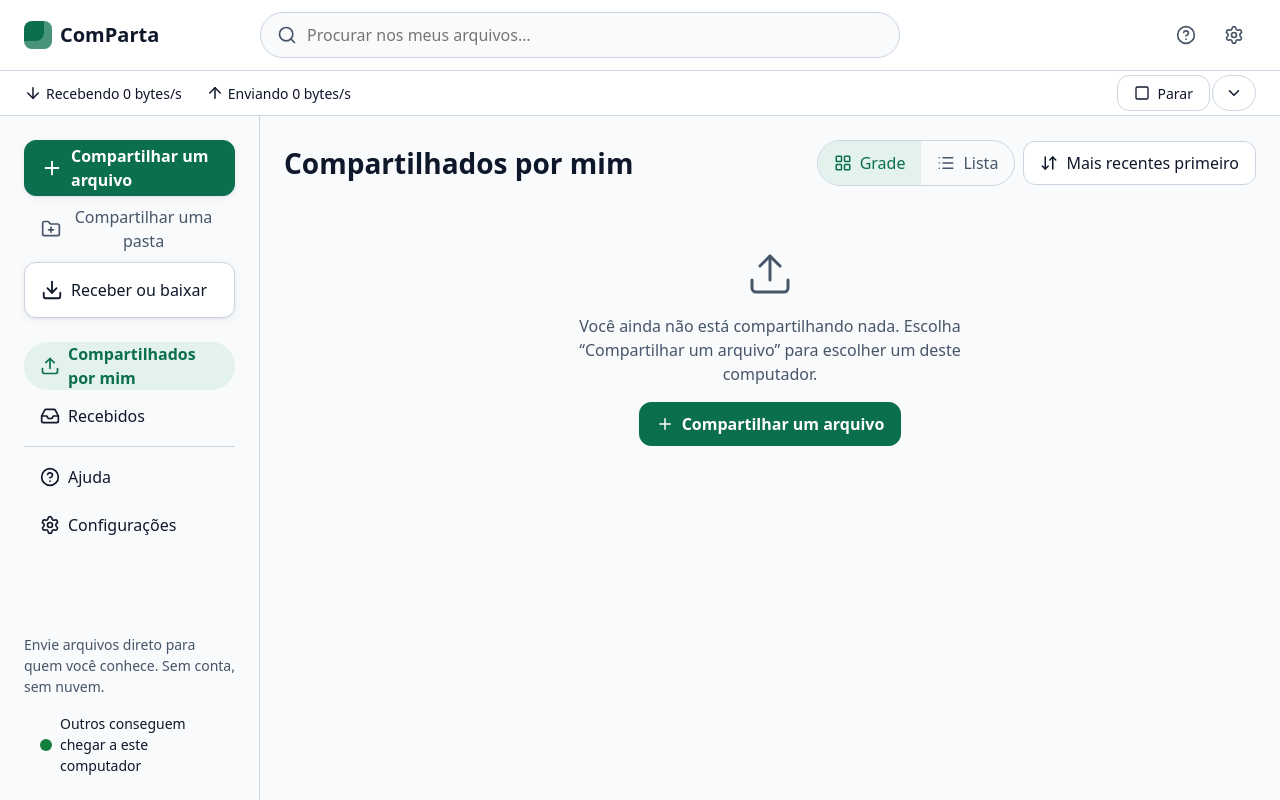
Test: sharing a folder or several files › says in Brazilian Portuguese that files added later are not included
The image size is (1280, 800).
Expected: the text "Você ainda não está compartilhando nada. Escolha “Compartilhar um arquivo” para escolher um deste computador." is shown, 579,315 -> 961,385
Click the button "Compartilhar uma pasta".
click(130, 229)  # box 24,204 -> 235,254
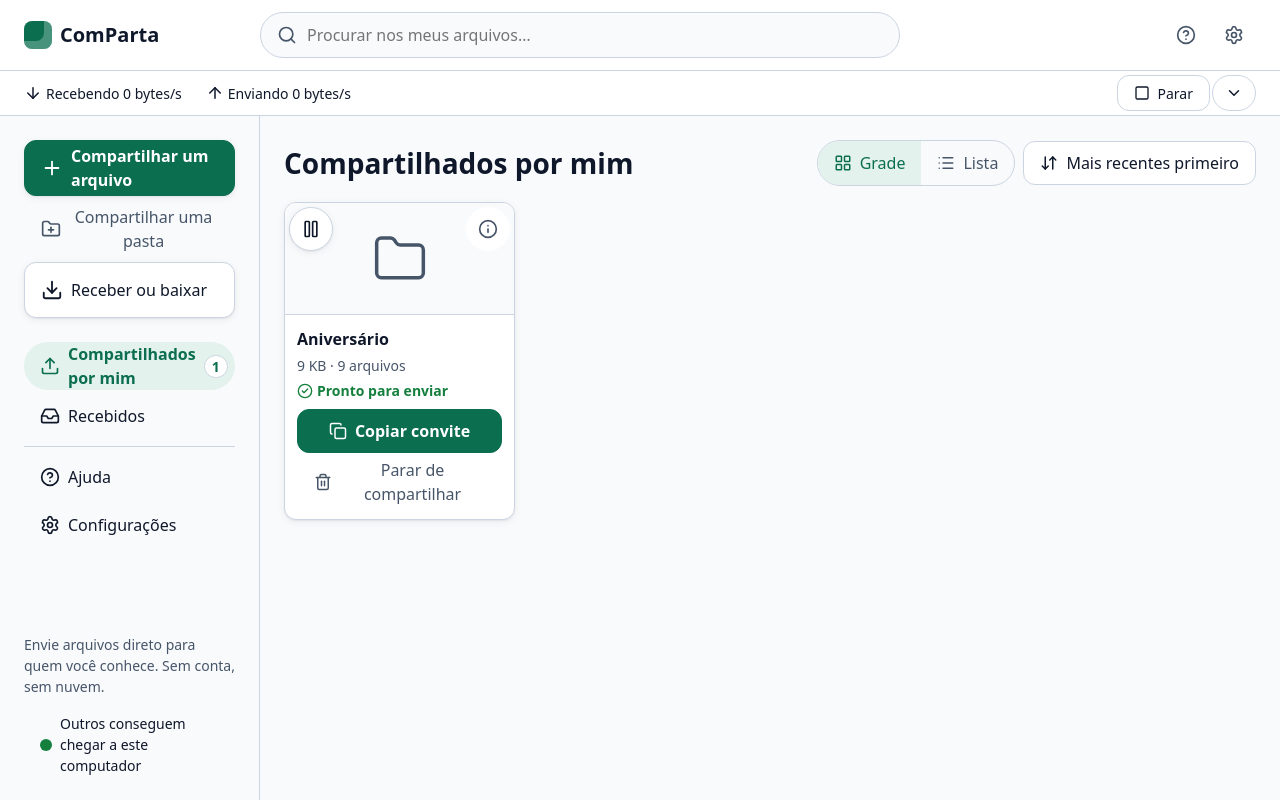
Click the button named "Detalhes de Aniversário".
click(488, 229)  # box 466,207 -> 510,251
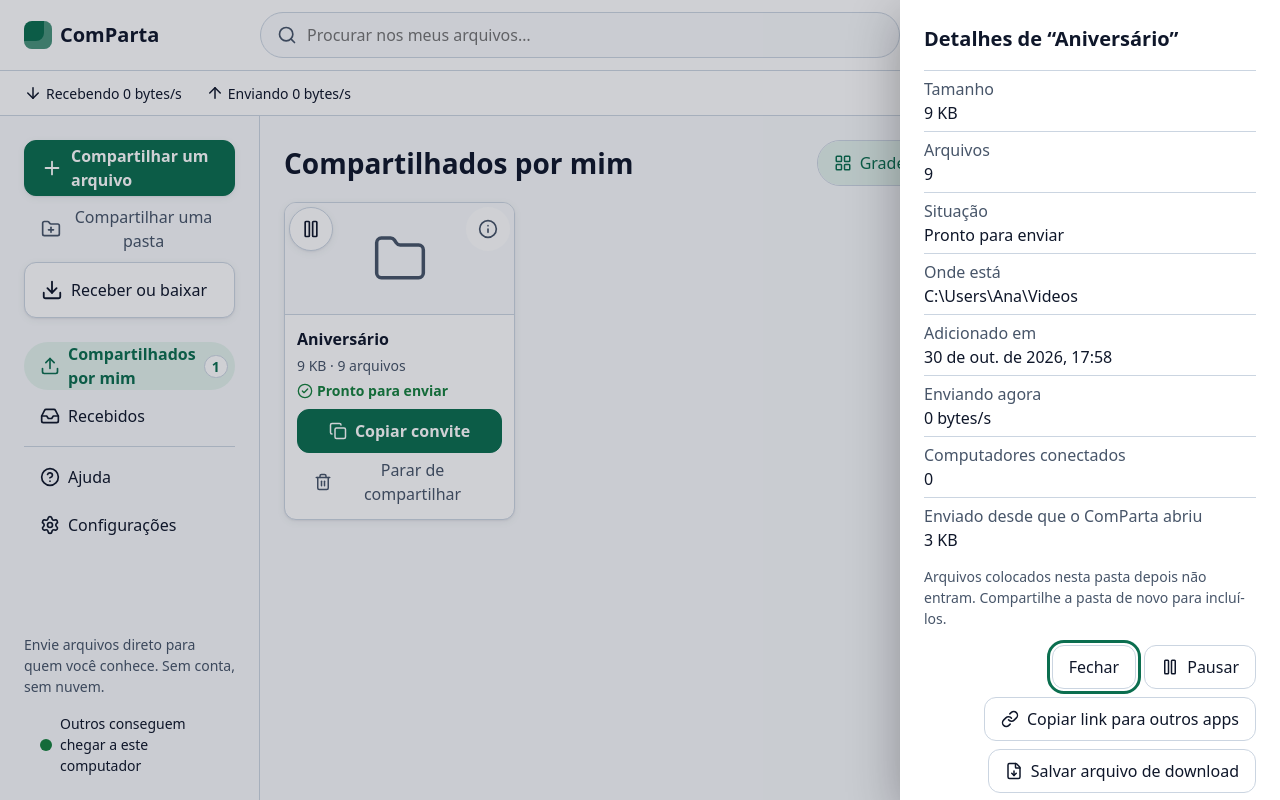
Now the text "Arquivos colocados nesta pasta depois não entram. Compartilhe a pasta de novo para incluí-los." is shown, box 924,567 -> 1245,628
